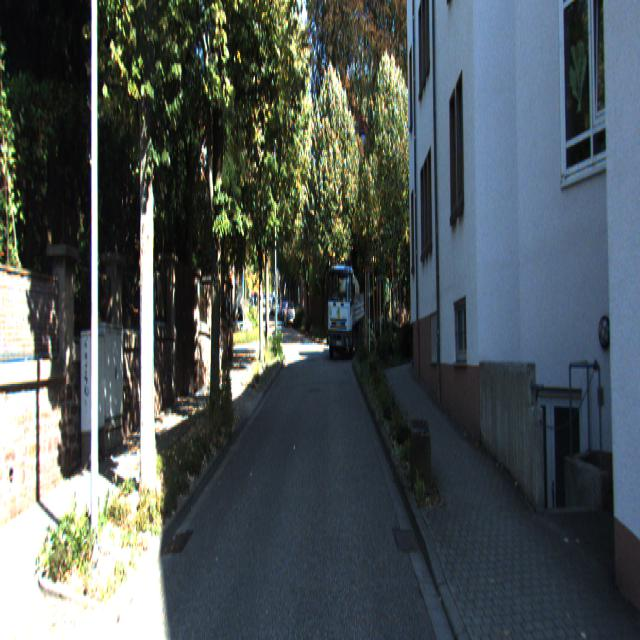Car: (326, 264, 364, 364), (285, 298, 296, 328)
